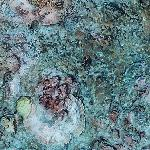dead: (2, 2, 146, 147)
